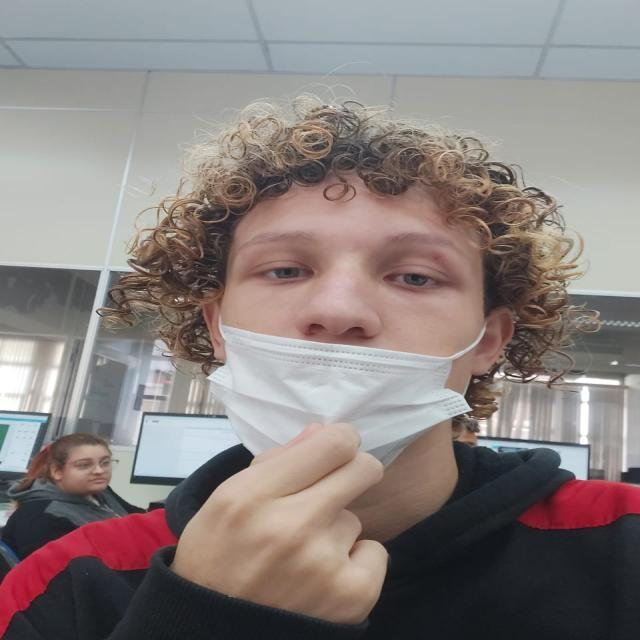hairnet: (201, 291, 482, 457)
